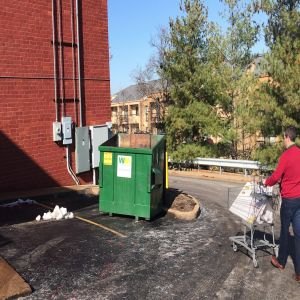Dumpster: (97, 127, 167, 225)
Person: (260, 129, 300, 281)
